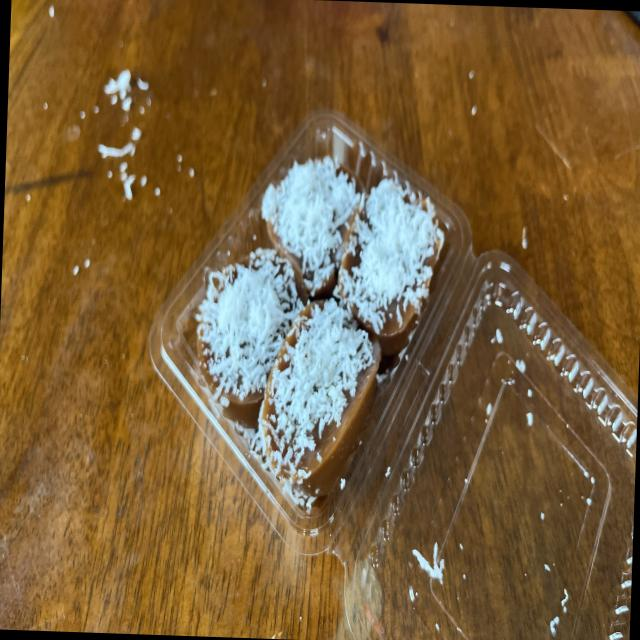Kuih lompang: (259, 298, 380, 496), (195, 247, 302, 427), (337, 178, 444, 356), (261, 156, 361, 298)
